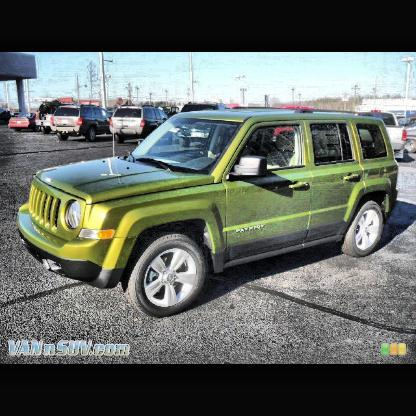Jeep Patriot SUV 2012: (16, 107, 401, 319)
